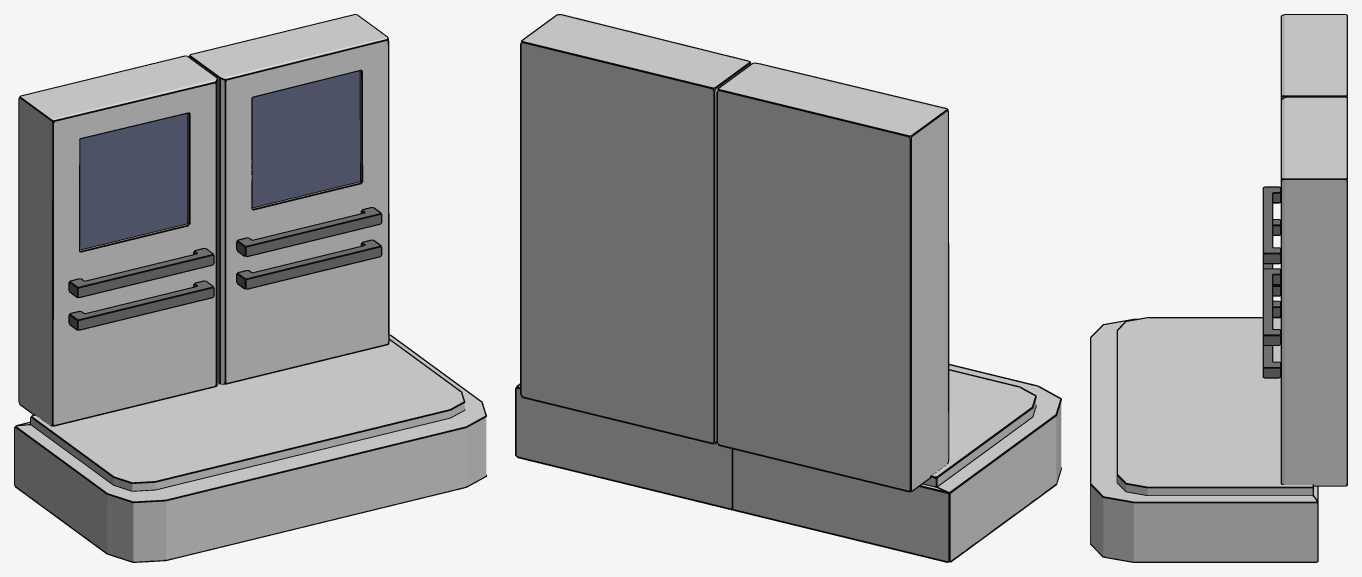
File: mainDoor.fbx
3 views of the same model, side by side, from view 1: azimuth 30°, elevation 25°; view 2: azimuth 150°, elevation 25°; view 3: azimuth 270°, elevation 25° (orthographic). The views are drawn at different scales.
Parts seen in each view (by area): view 1: mainDoor, outline.025; view 2: mainDoor, outline.025; view 3: mainDoor, outline.025.
Part boxes in pixels (left/top/right/bottom): mainDoor: left=15, top=15, right=486, bottom=561; outline.025: left=14, top=14, right=486, bottom=562; mainDoor: left=516, top=15, right=1061, bottom=562; outline.025: left=515, top=14, right=1061, bottom=562; mainDoor: left=1090, top=15, right=1347, bottom=561; outline.025: left=1090, top=14, right=1347, bottom=562.
Bounding box in the file's own units: 1420 × 1355 × 844.
